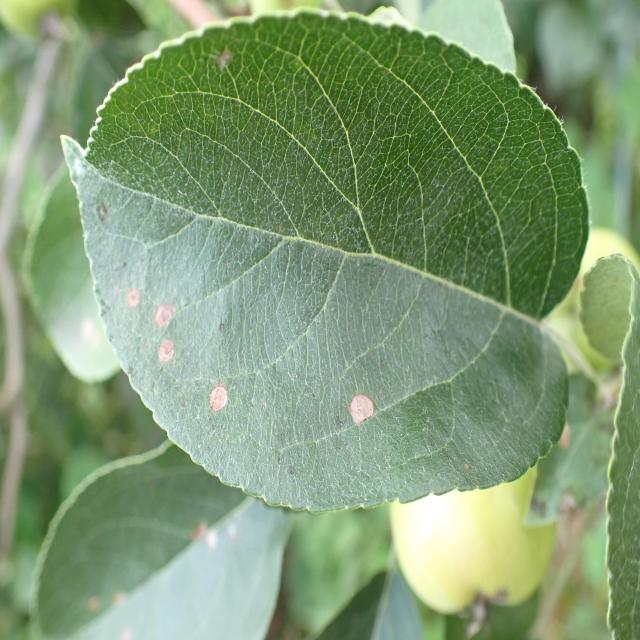Black Rot: (339, 352, 379, 452), (153, 292, 187, 383), (202, 361, 238, 444), (110, 270, 144, 331), (205, 39, 256, 79)
